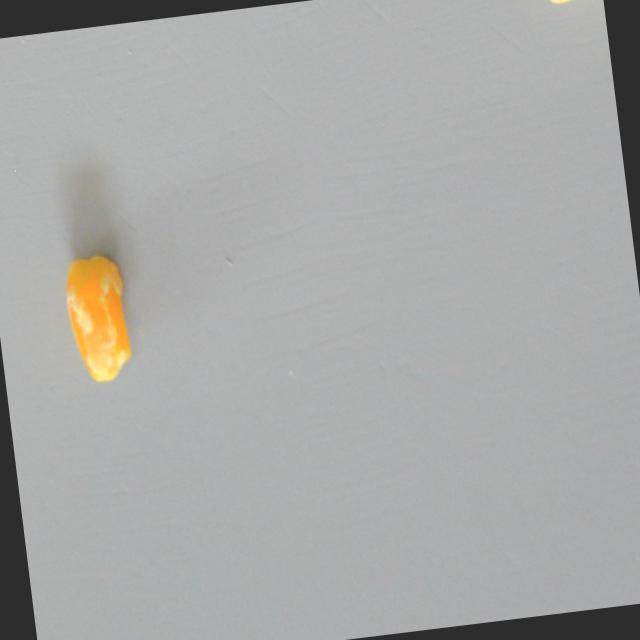pelicula: (55, 249, 136, 383)
